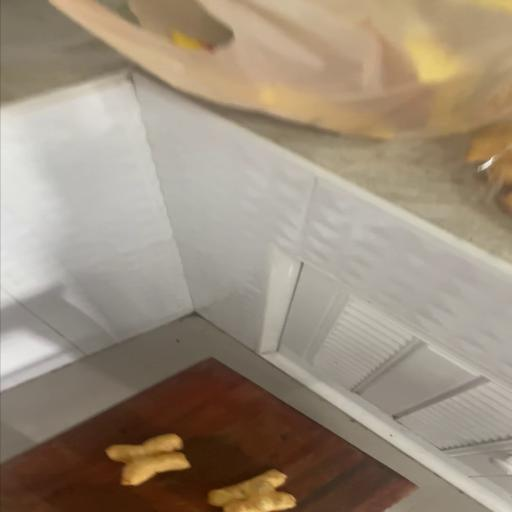street_golden_good: (107, 434, 190, 485)
